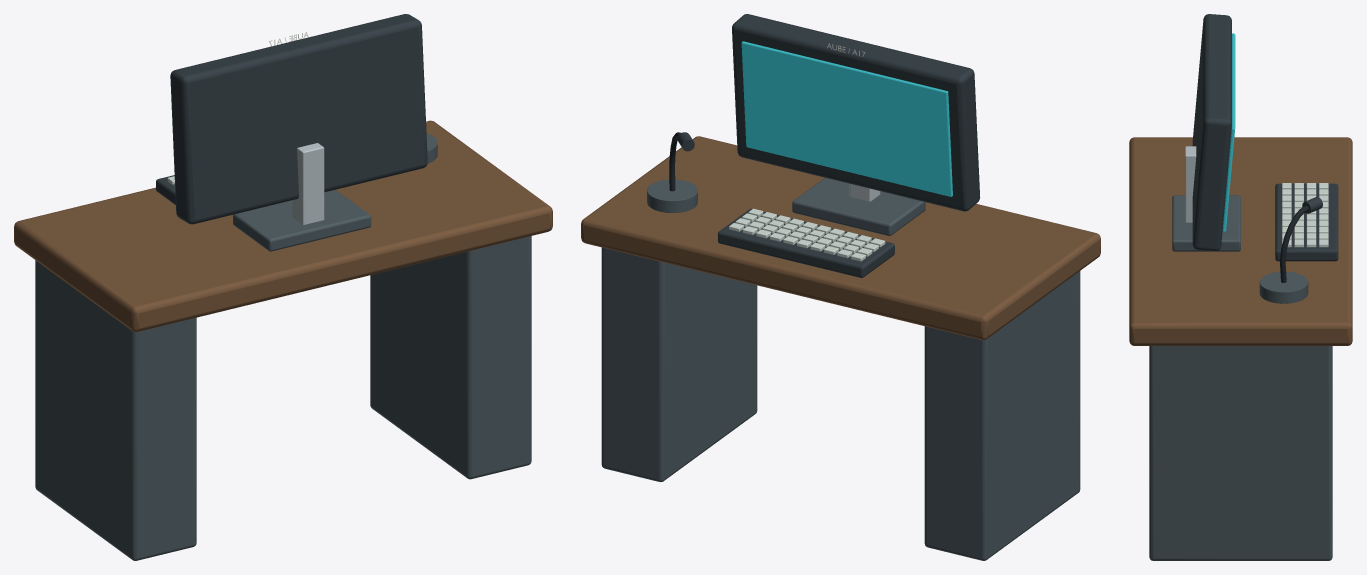
The model's file is relay_console.glb.
3 renders of one model, left to right at view 1: azimuth 30°, elevation 25°; view 2: azimuth 150°, elevation 25°; view 3: azimuth 270°, elevation 25°, orthographic. The views are drawn at different scales.
Visible parts, largest first — view 1: relay_console_render_mesh; view 2: relay_console_render_mesh; view 3: relay_console_render_mesh.
Boxes of the visible parts, <box> form: relay_console_render_mesh: <box>14,14,552,560</box>; relay_console_render_mesh: <box>581,14,1100,560</box>; relay_console_render_mesh: <box>1129,14,1352,560</box>.
Bounding box in the file's own units: 1.56 × 1.58 × 0.78.
